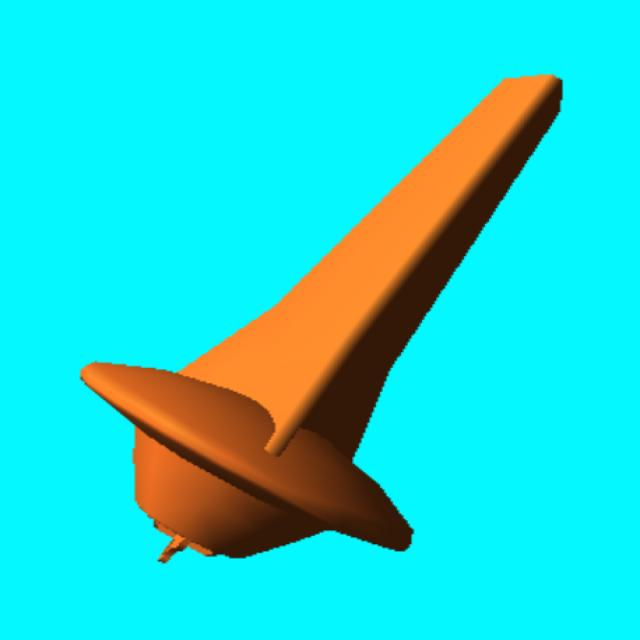OrangeBuoy: (81, 76, 561, 561)
